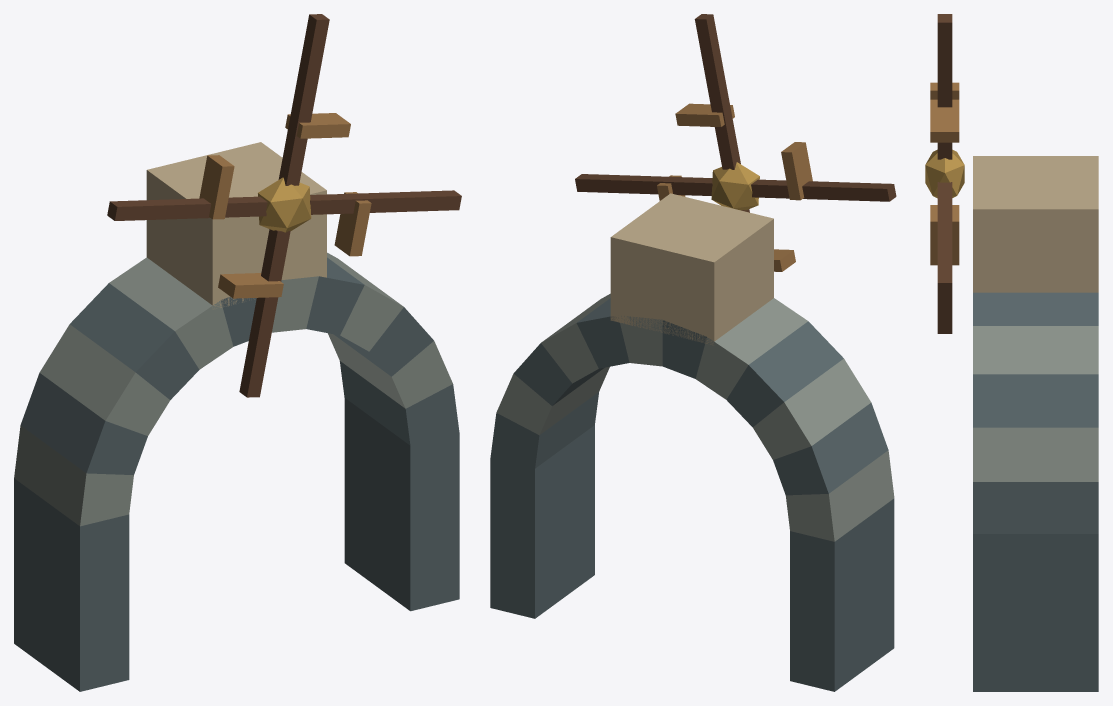
Rendered from PirateCove_WindmillGate_Simple.glb.
3 renders of one model, left to right at view 1: azimuth 30°, elevation 25°; view 2: azimuth 150°, elevation 25°; view 3: azimuth 270°, elevation 25°, orthographic. The views are drawn at different scales.
Visible parts, largest first — view 1: PirateCove_WindmillGate_Simple; view 2: PirateCove_WindmillGate_Simple; view 3: PirateCove_WindmillGate_Simple.
Boxes of the visible parts, box(x1,y1,x2,y2) form: PirateCove_WindmillGate_Simple: box(14, 14, 461, 691); PirateCove_WindmillGate_Simple: box(490, 14, 896, 691); PirateCove_WindmillGate_Simple: box(925, 14, 1098, 691).
Bounding box in the file's own units: 2.16 × 3.44 × 0.8971.
